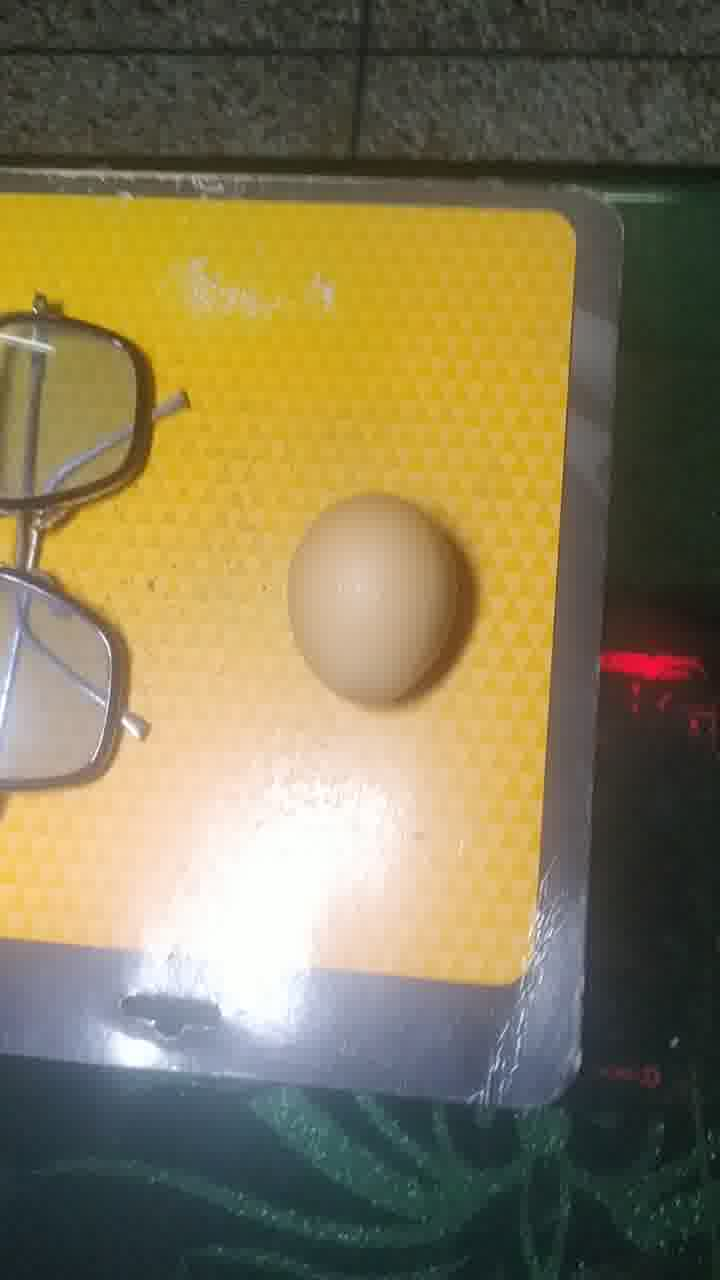egg: (283, 487, 474, 718)
sunglass: (3, 281, 197, 804)
